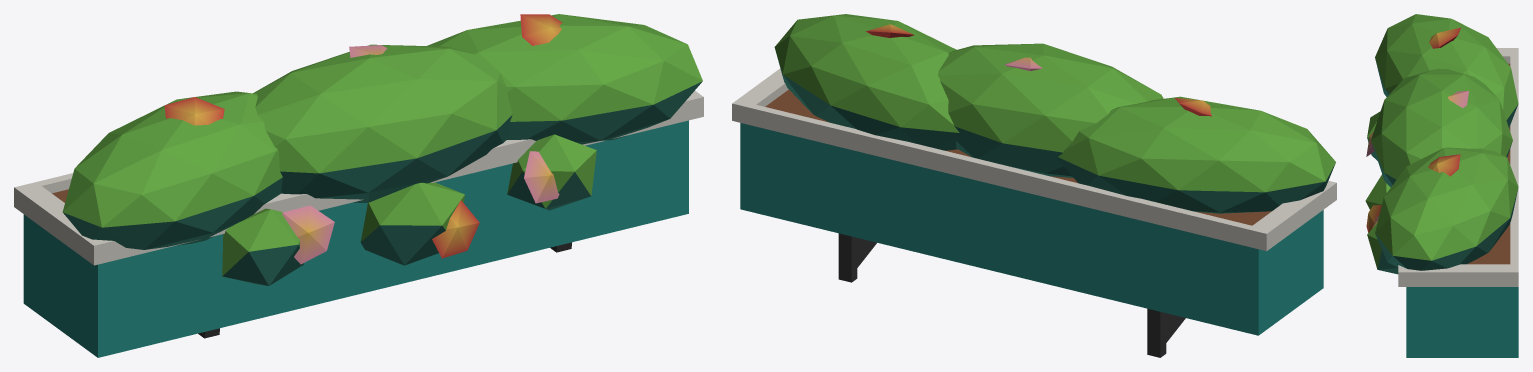
File: cicek_kutusu.glb
The picture shows the model from 3 angles, left to right: view 1: azimuth 30°, elevation 25°; view 2: azimuth 150°, elevation 25°; view 3: azimuth 270°, elevation 25°; orthographic projection. The views are drawn at different scales.
Visible parts, largest first — view 1: cicek_kutusu; view 2: cicek_kutusu; view 3: cicek_kutusu.
Part boxes in pixels (box(x1,y1,x2,y2)): cicek_kutusu: box(14, 14, 703, 357); cicek_kutusu: box(732, 14, 1336, 357); cicek_kutusu: box(1365, 14, 1518, 357).
Bounding box in the file's own units: 0.9999 × 0.4 × 0.28.
